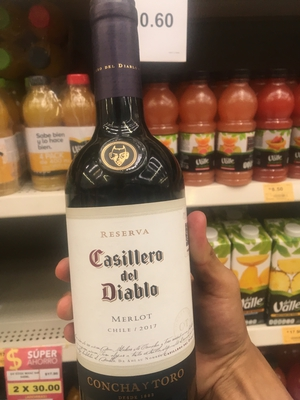casillero del diablo merlot: (62, 1, 213, 400)
